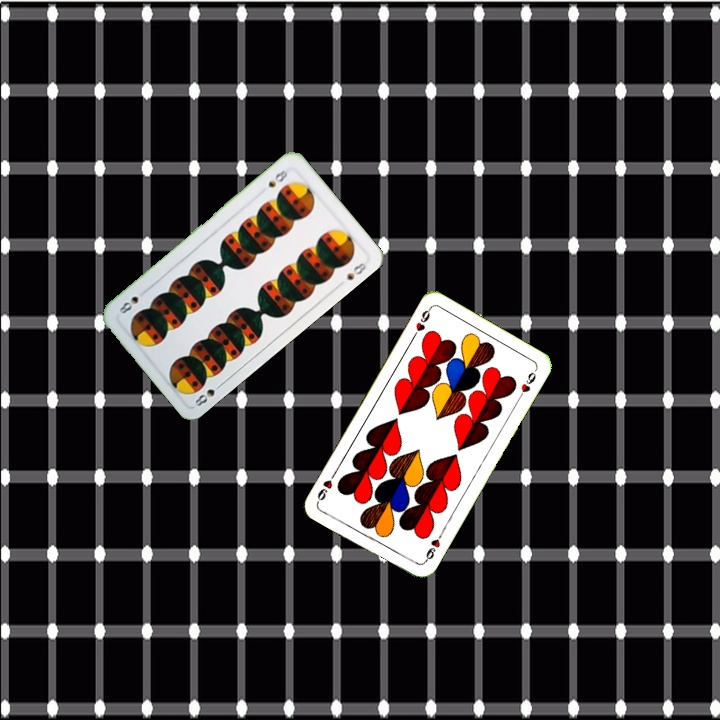H9: (420, 528, 445, 566), (408, 304, 433, 341)
S8: (190, 379, 226, 411), (264, 163, 294, 190)
